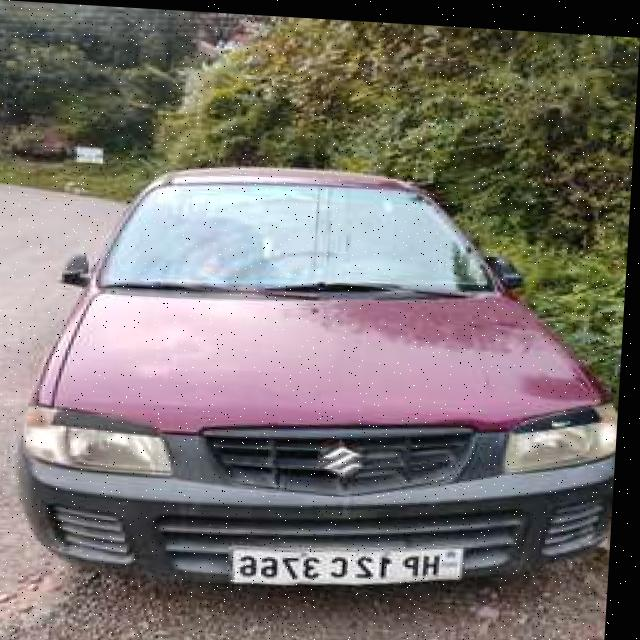plate: (235, 528, 474, 592)
